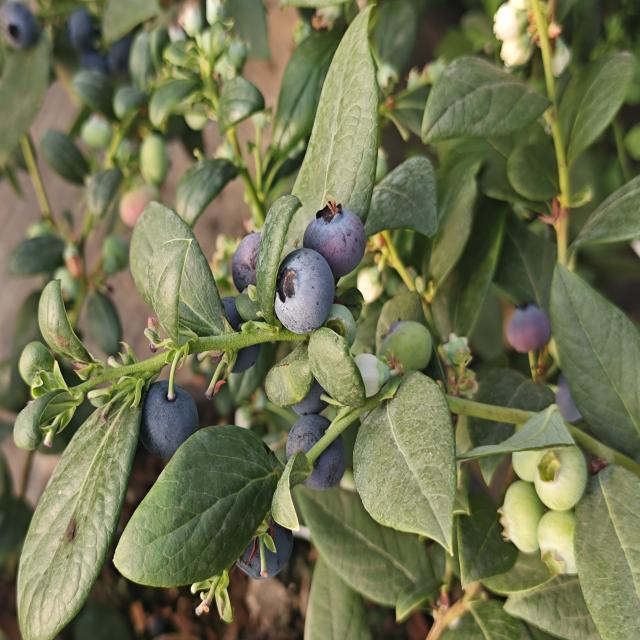ripe: (278, 361, 351, 492), (195, 281, 264, 379), (133, 372, 200, 467), (256, 258, 334, 338), (228, 513, 297, 593), (214, 218, 284, 292), (64, 10, 128, 80), (310, 188, 368, 262), (496, 292, 558, 361), (0, 0, 45, 64)
